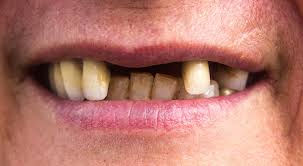normal: (182, 62, 210, 93), (221, 66, 248, 91), (54, 64, 65, 97), (48, 64, 55, 91)
rough: (153, 63, 179, 84), (108, 62, 130, 82), (131, 63, 152, 83), (209, 62, 228, 82)
yellow: (83, 61, 107, 102), (60, 62, 83, 100), (151, 74, 174, 102), (129, 74, 151, 99), (109, 76, 129, 98)
